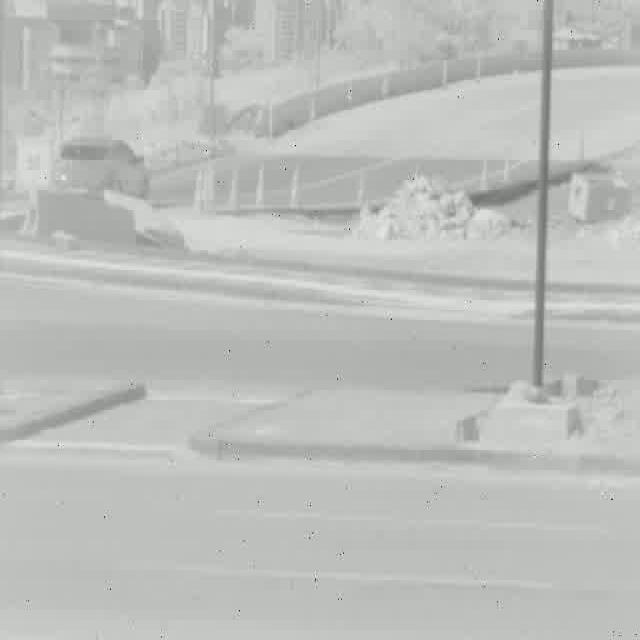Car: (51, 137, 150, 203)
